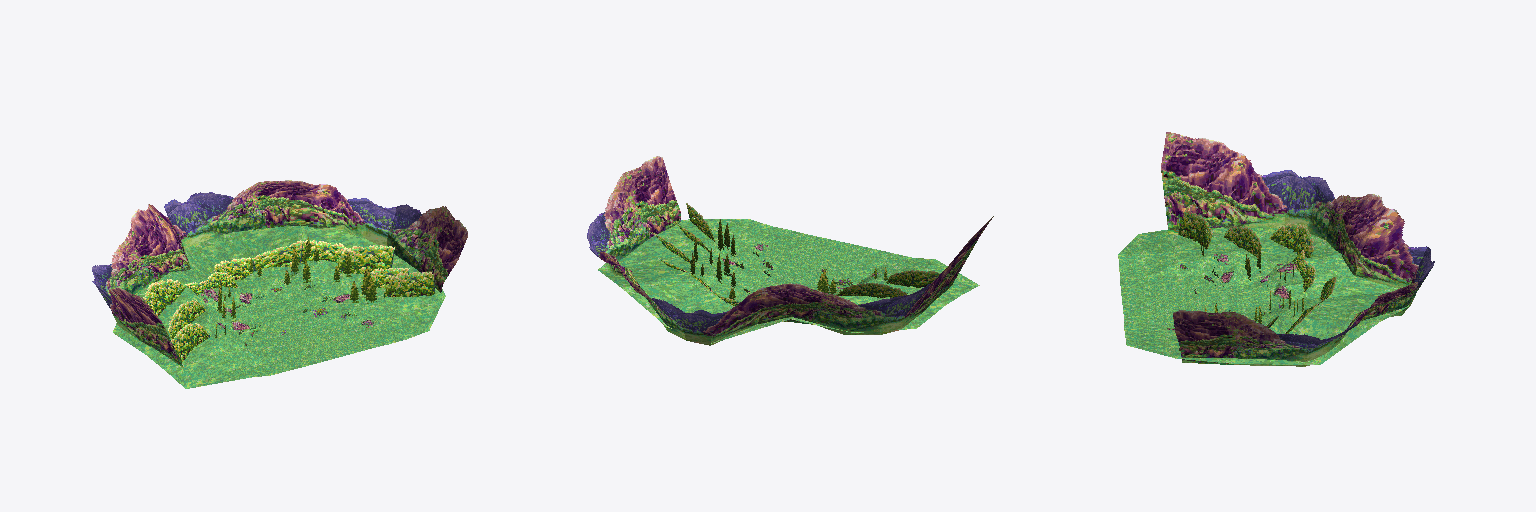
The picture shows the model from 3 angles: view 1: azimuth 30°, elevation 25°; view 2: azimuth 150°, elevation 25°; view 3: azimuth 270°, elevation 25°; orthographic projection.
Visible parts, largest first — view 1: Plains(Dark); view 2: Plains(Dark); view 3: Plains(Dark).
Part boxes in pixels (x1,y1,x2,y2): Plains(Dark): (92,180,467,388); Plains(Dark): (587,156,993,345); Plains(Dark): (1118,132,1434,366).
Bounding box in the file's own units: 75.41 × 19.48 × 60.85.
Materials: 7 (1 with a texture image).